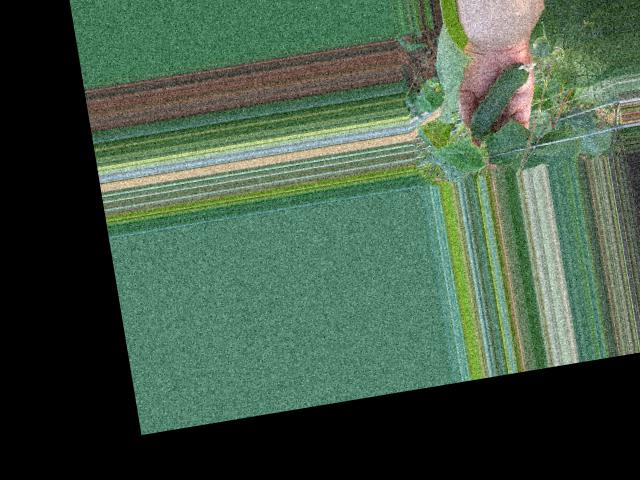cucumber: (461, 59, 548, 138)
